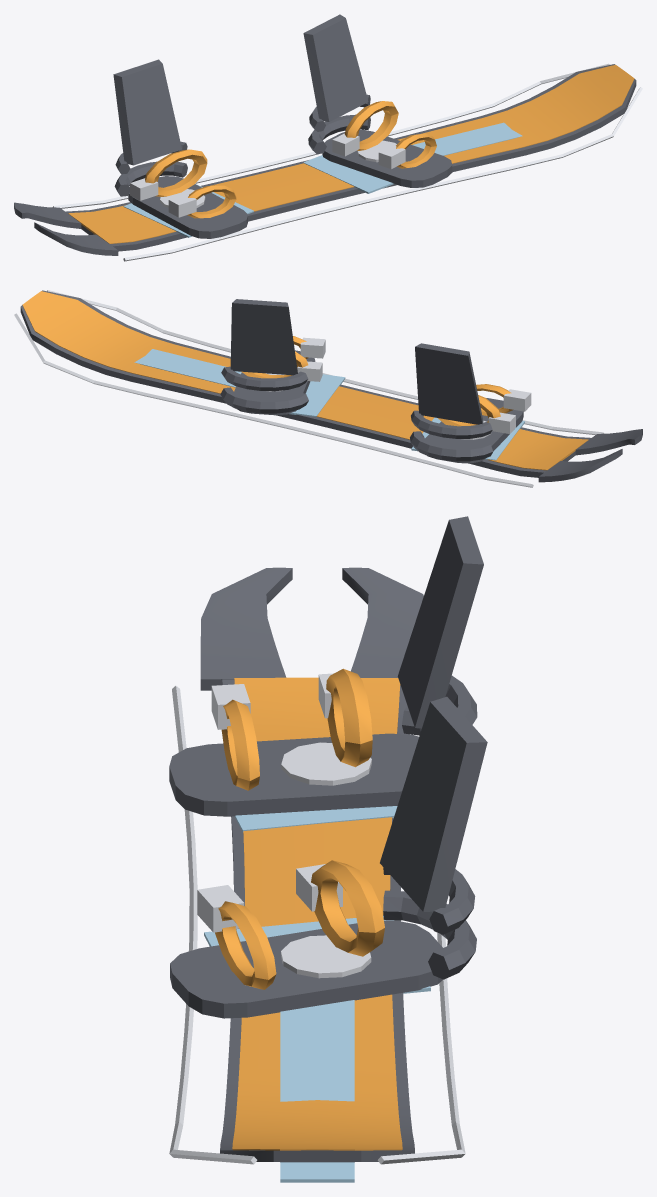
File: backcountry-snowboarding-and-avalanche-safety-powder-b-ccc1aa27__18924.glb
The picture shows the model from 3 angles, top to bottom: view 1: azimuth 30°, elevation 25°; view 2: azimuth 150°, elevation 25°; view 3: azimuth 270°, elevation 25°; orthographic projection. The views are drawn at different scales.
Parts seen in each view (by area): view 1: powder-board; view 2: powder-board; view 3: powder-board.
Boxes of the visible parts, box(x1,y1,x2,y2) form: powder-board: box(14, 14, 642, 261); powder-board: box(14, 290, 642, 487); powder-board: box(169, 516, 487, 1182).
Size of the model in its own units: 1.51 by 0.298 by 0.3478.
